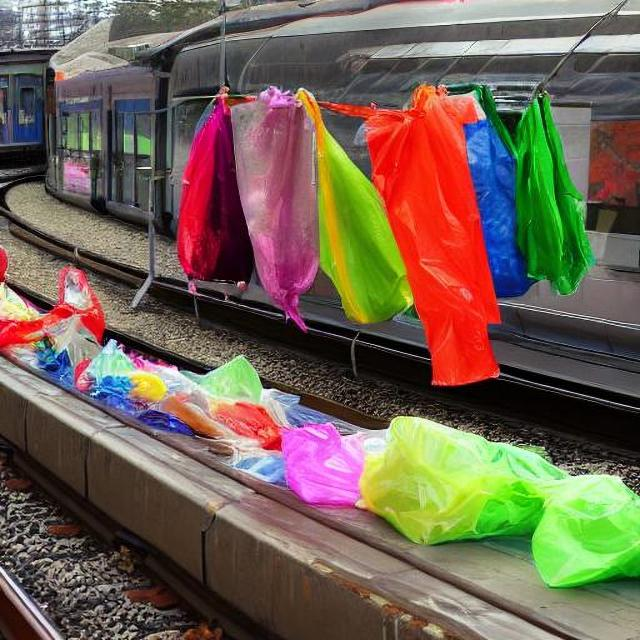floating object: (495, 90, 592, 296)
plastic bag: (0, 238, 275, 488), (342, 80, 519, 390), (248, 71, 408, 337), (416, 76, 594, 310), (362, 400, 538, 558), (172, 85, 262, 291), (531, 451, 640, 596), (272, 387, 371, 538)
